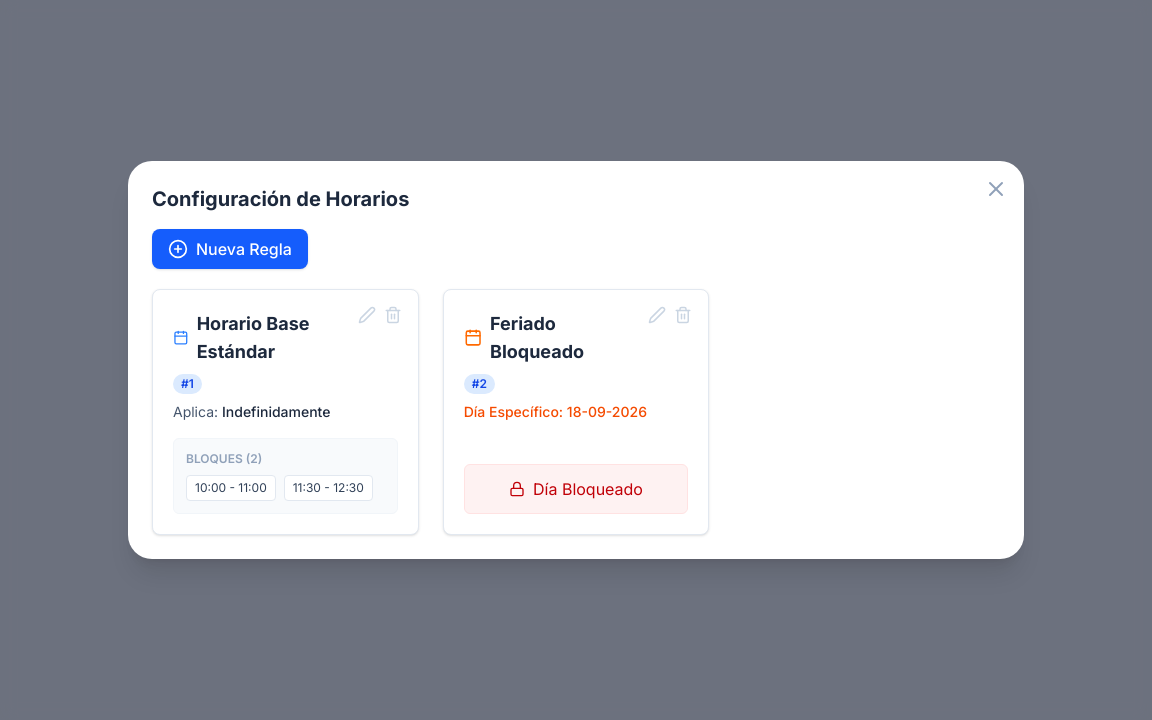
Test: Modal de Configuración de Horarios (dentro de /calendario) - Pruebas Unitarias y de Componente › 2. Debe abrir el modal para crear una nueva regla de horario
Check: the heading "Horario Base Estándar" is shown, box x1=197 y1=313 x2=310 y2=362
Click the button "Nueva Regla".
click(230, 249)  # box x1=152 y1=229 x2=308 y2=269
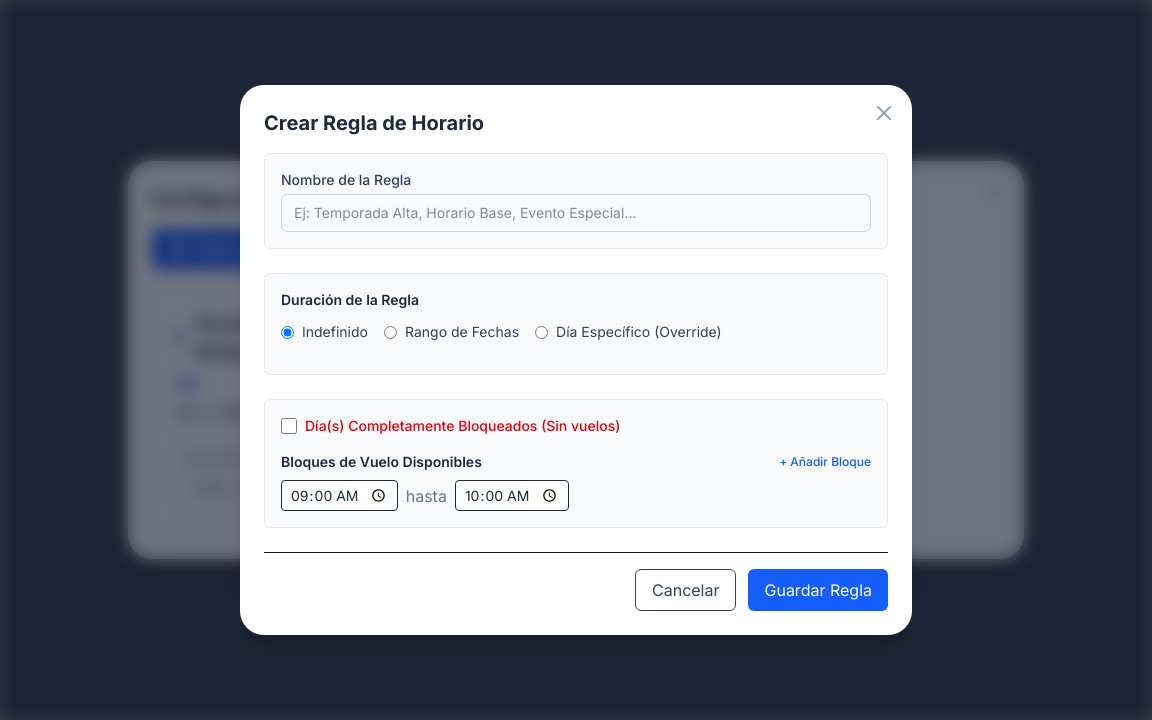
Check: the heading "Crear Regla de Horario" is shown, box x1=264 y1=111 x2=484 y2=135
Check: the field with placeholder "Ej: Temporada Alta, Horario Base, Evento Especial..." is shown, box x1=281 y1=194 x2=871 y2=232
